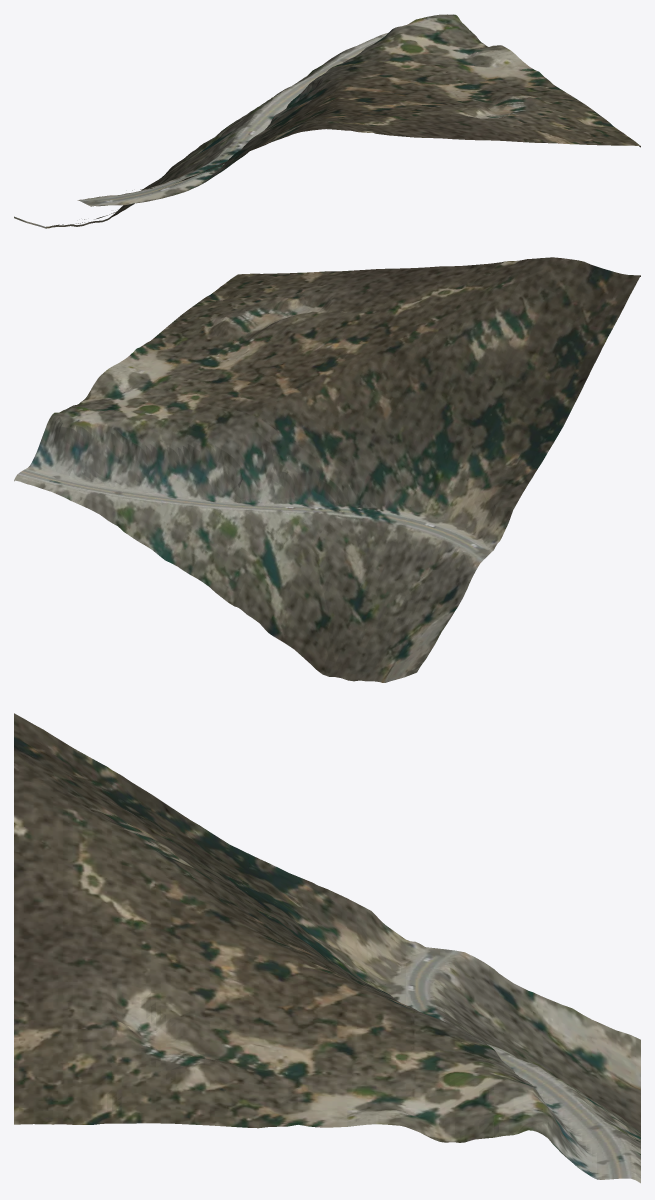
3 views of the same model, one above another, from view 1: azimuth 30°, elevation 25°; view 2: azimuth 150°, elevation 25°; view 3: azimuth 270°, elevation 25° (orthographic). The views are drawn at different scales.
Size of the model in its own units: 250 by 155 by 241.
1 material, 1 textured.
